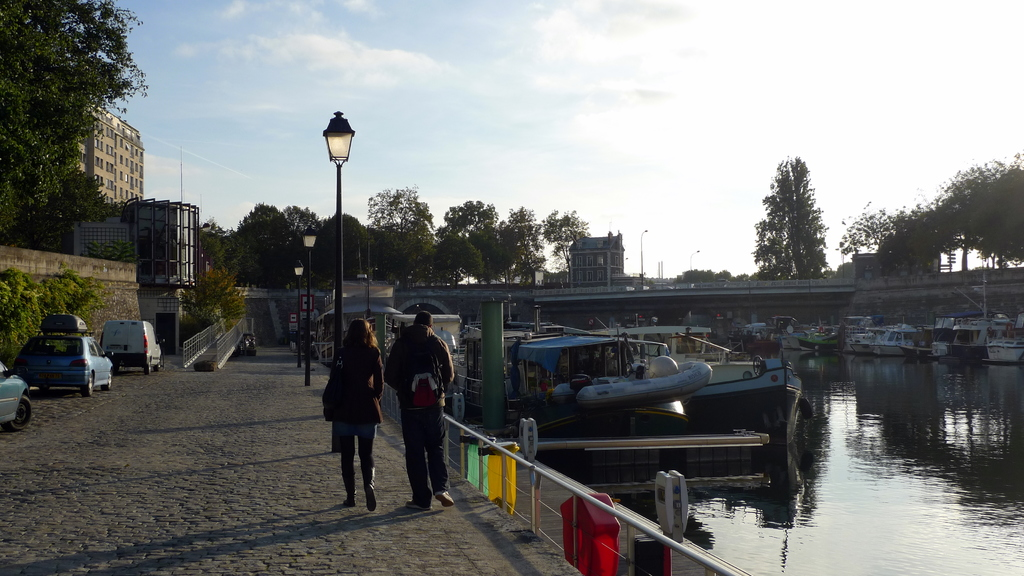Car: (10, 324, 113, 392), (101, 312, 158, 373), (0, 350, 33, 431)
